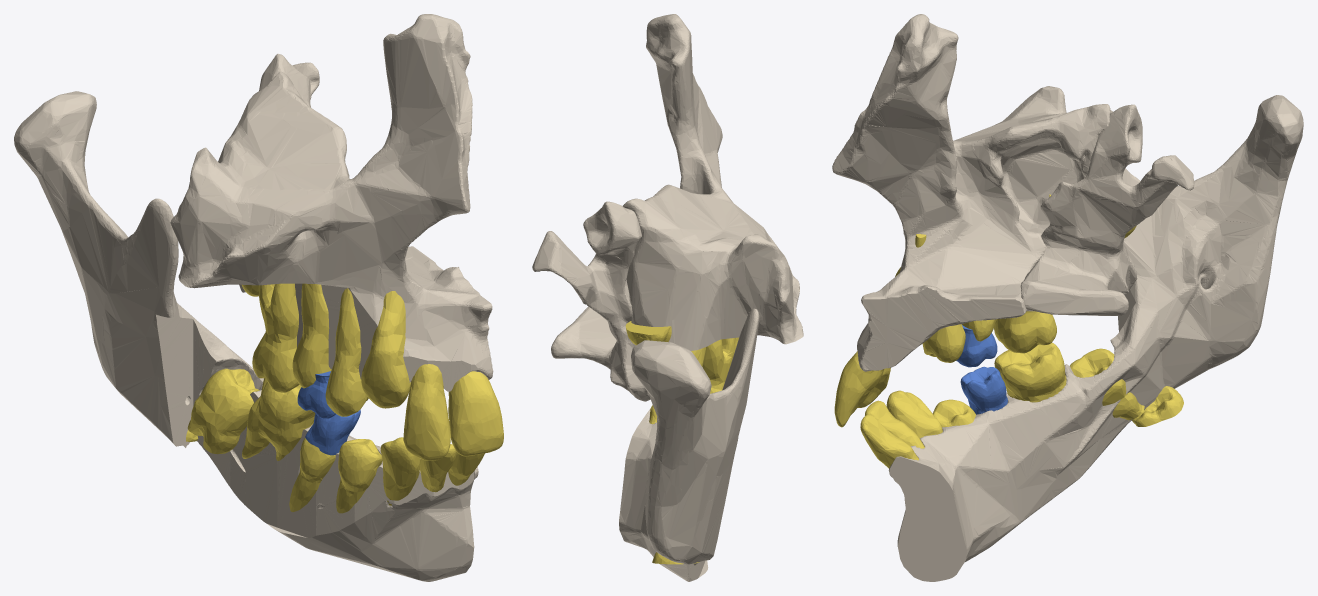
File: age-11-5.glb
The picture shows the model from 3 angles, left to right: view 1: azimuth 30°, elevation 25°; view 2: azimuth 150°, elevation 25°; view 3: azimuth 270°, elevation 25°; orthographic projection. The views are drawn at different scales.
Visible parts, largest first — view 1: upper-bone, lower-bone, upper-adult-teeth, lower-adult-teeth, lower-baby-teeth, upper-baby-teeth; view 2: upper-bone, lower-bone, upper-adult-teeth; view 3: upper-bone, lower-bone, lower-adult-teeth, upper-adult-teeth, lower-baby-teeth, upper-baby-teeth.
Boxes of the visible parts, box(x1,y1,x2,y2) form: upper-bone: box(170, 14, 493, 391); lower-bone: box(14, 91, 478, 581); upper-adult-teeth: box(242, 283, 503, 460); lower-adult-teeth: box(186, 368, 484, 513); lower-baby-teeth: box(305, 409, 360, 455); upper-baby-teeth: box(297, 371, 335, 418); upper-bone: box(532, 14, 803, 401); lower-bone: box(619, 308, 759, 581); upper-adult-teeth: box(625, 321, 738, 393); upper-bone: box(832, 14, 1194, 371); lower-bone: box(888, 95, 1303, 581); lower-adult-teeth: box(860, 342, 1183, 468); upper-adult-teeth: box(834, 194, 1136, 427); lower-baby-teeth: box(960, 366, 1007, 414); upper-baby-teeth: box(956, 325, 997, 367).
Bounding box in the file's own units: 0.0517 × 0.1088 × 0.0841.
